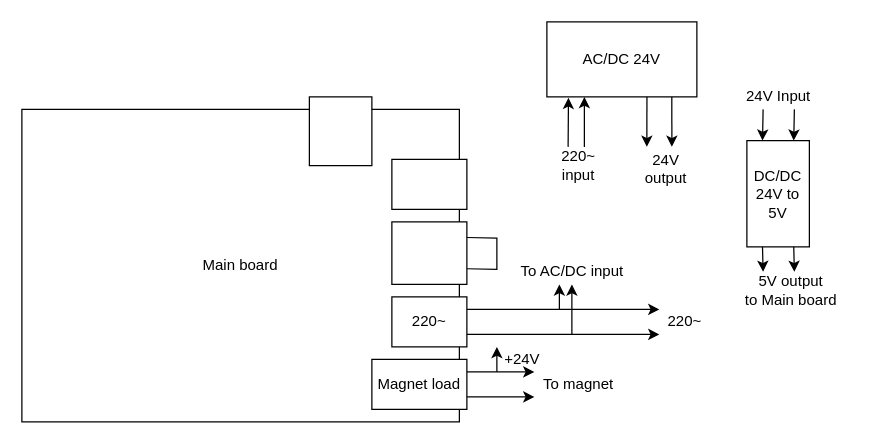
Image size: 869x444. Some labels were removed from this diagram. Here are the shapes that lost their labels. From the top down, the centre of each, then its label:
At point 340,131: "Heat 1".
At point 429,183: "Heat 2".
At point 429,252: "Relay (not used)".
